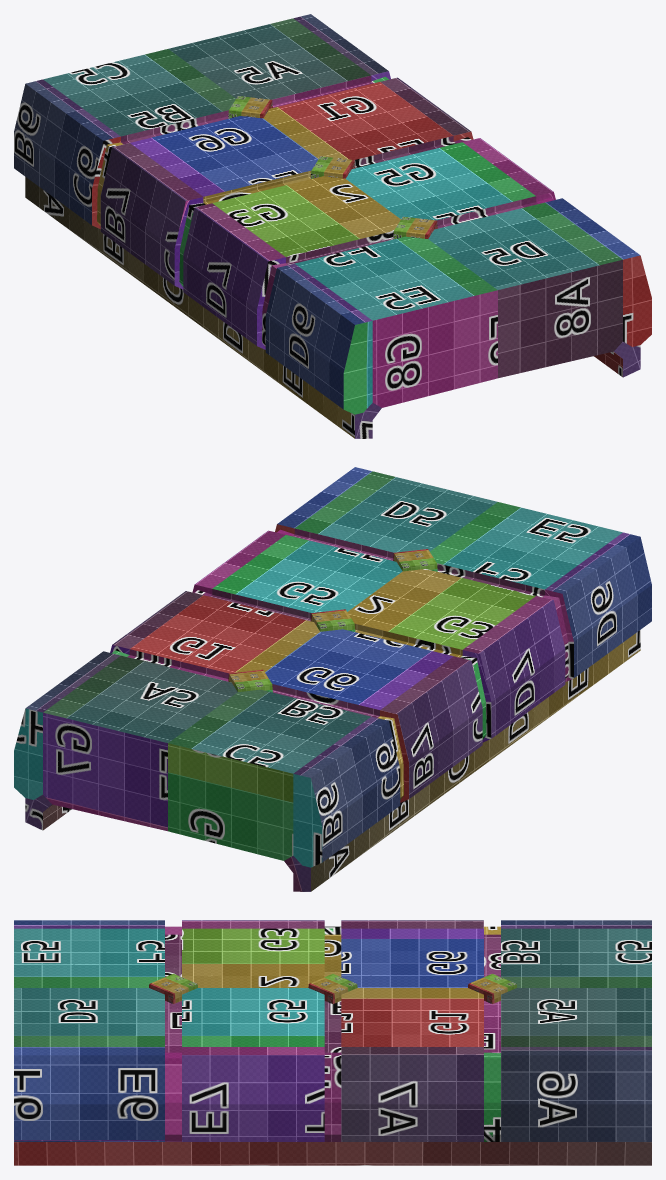
Rendered from room_02.fbx.
3 views of the same model, one above another, from view 1: azimuth 30°, elevation 25°; view 2: azimuth 150°, elevation 25°; view 3: azimuth 270°, elevation 25° (orthographic). The views are drawn at different scales.
Visible parts, largest first — view 1: Cube.004, Cube.002; view 2: Cube.004, Cube.002; view 3: Cube.004, Cube.002.
Boxes of the visible parts, x1,y1,x2,y2 form: Cube.004: [14, 14, 651, 438]; Cube.002: [228, 96, 437, 239]; Cube.004: [14, 467, 651, 891]; Cube.002: [228, 549, 437, 692]; Cube.004: [14, 920, 651, 1165]; Cube.002: [149, 974, 516, 1003].
Size of the model in its own units: 1079 by 408 by 2000.
